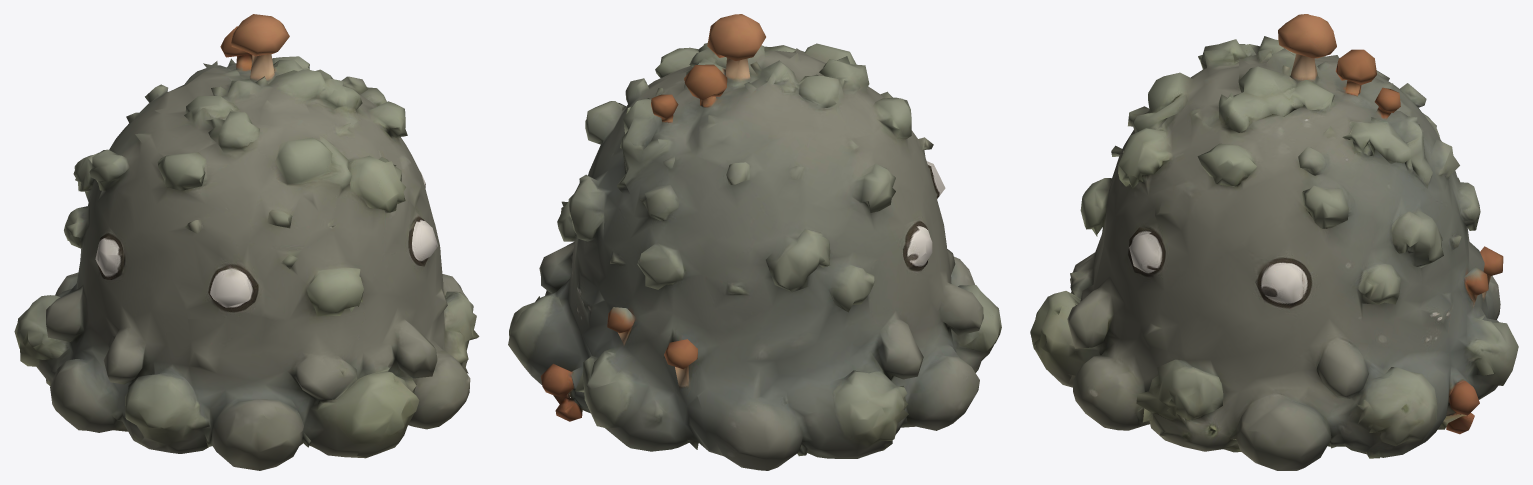
Rendered from enemy_mold_slime_model.glb.
3 views of the same model, side by side, from view 1: azimuth 30°, elevation 25°; view 2: azimuth 150°, elevation 25°; view 3: azimuth 270°, elevation 25° (orthographic). The views are drawn at different scales.
Parts seen in each view (by area): view 1: tripo_node_f08e290c-4594-4883-9cb0-9b3732c26f3a; view 2: tripo_node_f08e290c-4594-4883-9cb0-9b3732c26f3a; view 3: tripo_node_f08e290c-4594-4883-9cb0-9b3732c26f3a.
Boxes of the visible parts, box(x1,y1,x2,y2) form: tripo_node_f08e290c-4594-4883-9cb0-9b3732c26f3a: box(14, 14, 479, 470); tripo_node_f08e290c-4594-4883-9cb0-9b3732c26f3a: box(508, 14, 1001, 470); tripo_node_f08e290c-4594-4883-9cb0-9b3732c26f3a: box(1030, 14, 1518, 470).
Bounding box in the file's own units: 0.992 × 0.8491 × 1.
Materials: 1 (1 with a texture image).
